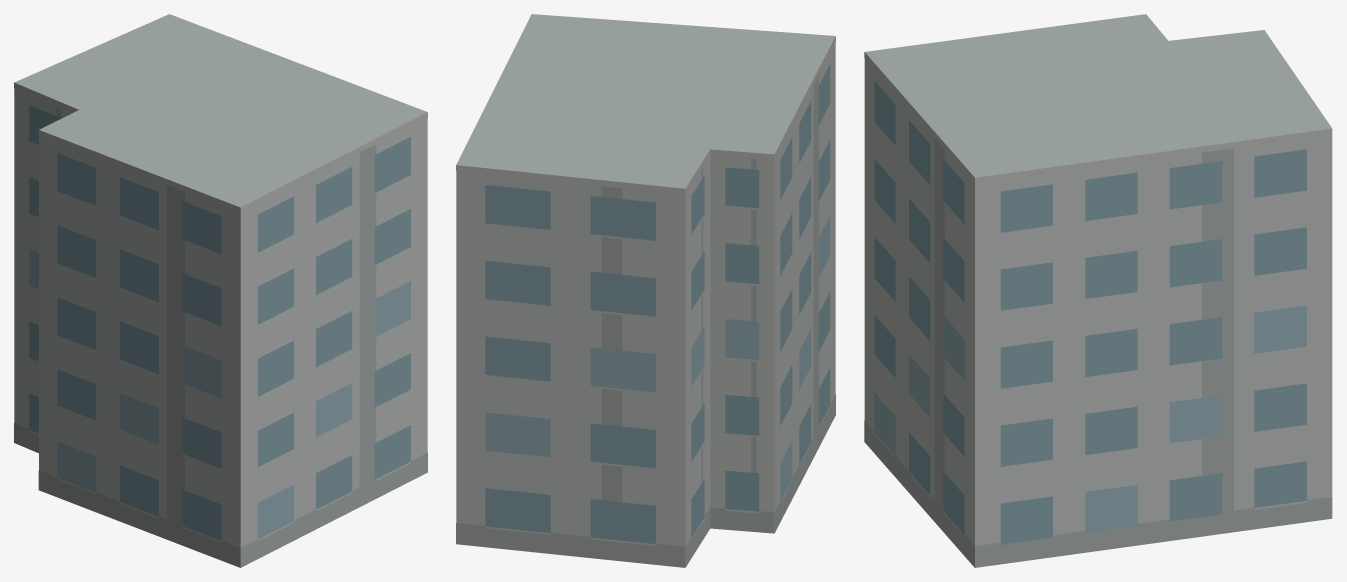
Rendered from survey-upis-32829369.glb.
3 views of the same model, side by side, from view 1: azimuth 30°, elevation 25°; view 2: azimuth 150°, elevation 25°; view 3: azimuth 270°, elevation 25° (orthographic). The views are drawn at different scales.
Visible parts, largest first — view 1: survey-upis-32829369.tmp; view 2: survey-upis-32829369.tmp; view 3: survey-upis-32829369.tmp.
Boxes of the visible parts, bbox=[...] form: survey-upis-32829369.tmp: bbox=[14, 14, 427, 567]; survey-upis-32829369.tmp: bbox=[456, 14, 835, 567]; survey-upis-32829369.tmp: bbox=[864, 14, 1332, 567].
Bounding box in the file's own units: 13.73 × 15.25 × 16.58.
